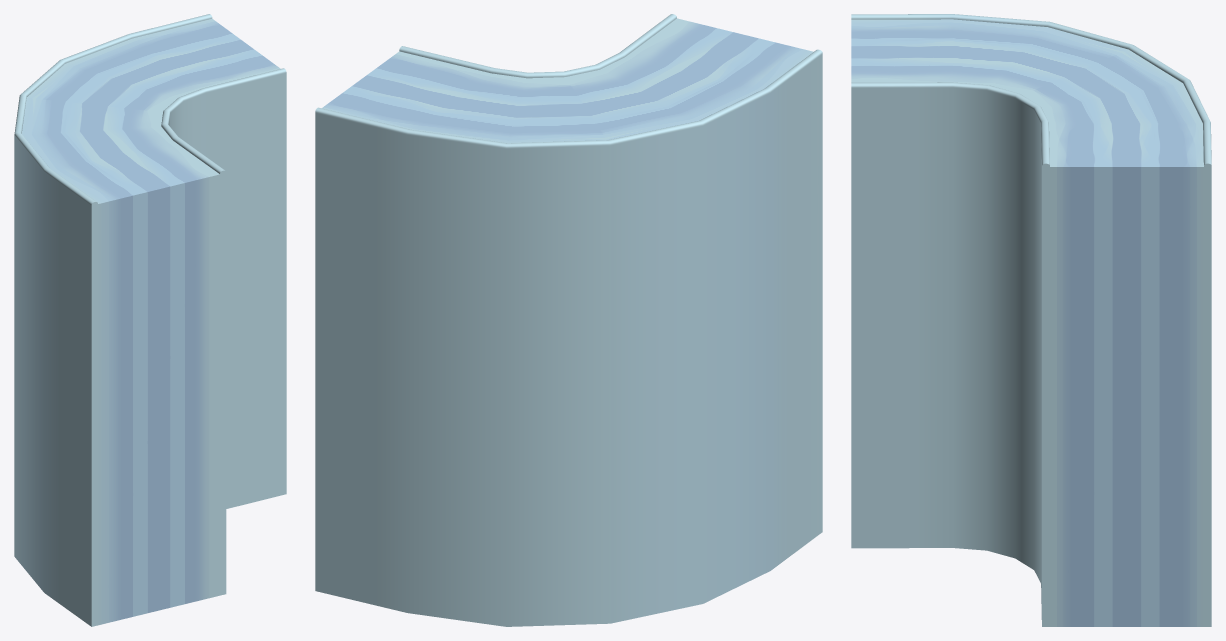
Rendered from Platform_Right.fbx.
3 renders of one model, left to right at view 1: azimuth 30°, elevation 25°; view 2: azimuth 150°, elevation 25°; view 3: azimuth 270°, elevation 25°, orthographic. The views are drawn at different scales.
Visible parts, largest first — view 1: Platform_Right; view 2: Platform_Right; view 3: Platform_Right.
Part boxes in pixels (bbox=[...]): Platform_Right: bbox=[14, 14, 286, 626]; Platform_Right: bbox=[315, 14, 822, 626]; Platform_Right: bbox=[851, 14, 1211, 626].
Size of the model in its own units: 18.9 by 27.09 by 19.11.
